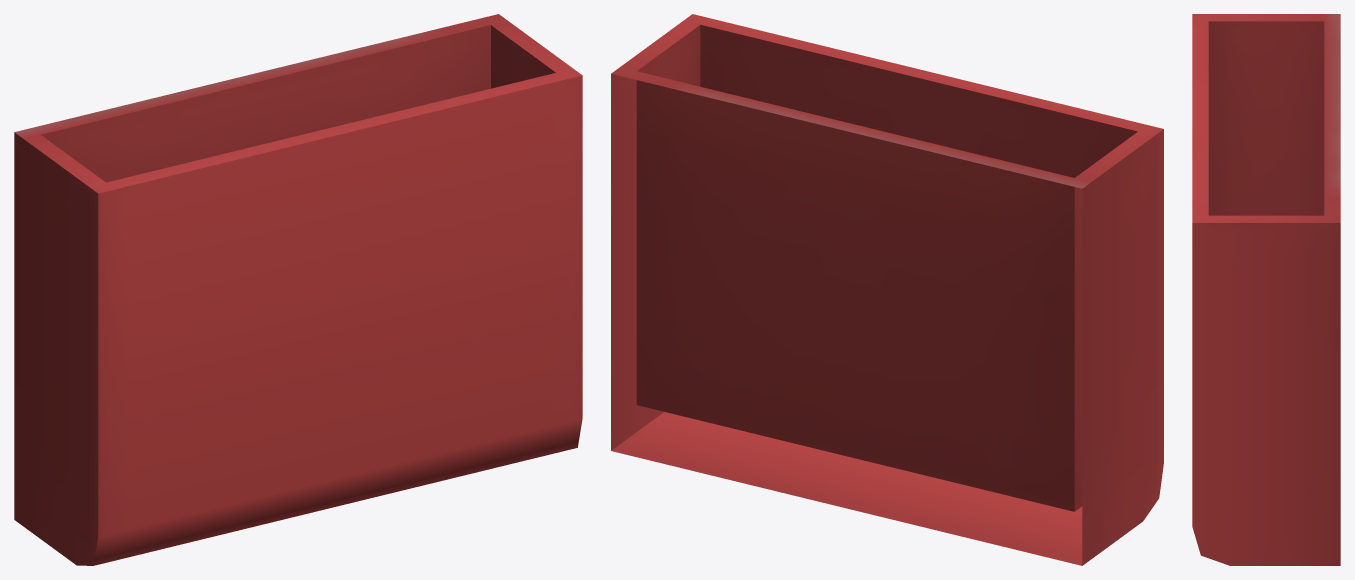
The model's file is Sharps.fbx.
3 renders of one model, left to right at view 1: azimuth 30°, elevation 25°; view 2: azimuth 150°, elevation 25°; view 3: azimuth 270°, elevation 25°, orthographic. The views are drawn at different scales.
Visible parts, largest first — view 1: Sharps; view 2: Sharps; view 3: Sharps.
Boxes of the visible parts, box(x1,y1,x2,y2) form: Sharps: box(14, 14, 582, 565); Sharps: box(611, 14, 1163, 565); Sharps: box(1192, 14, 1340, 565).
Bounding box in the file's own units: 26.5 × 20.27 × 7.95.
